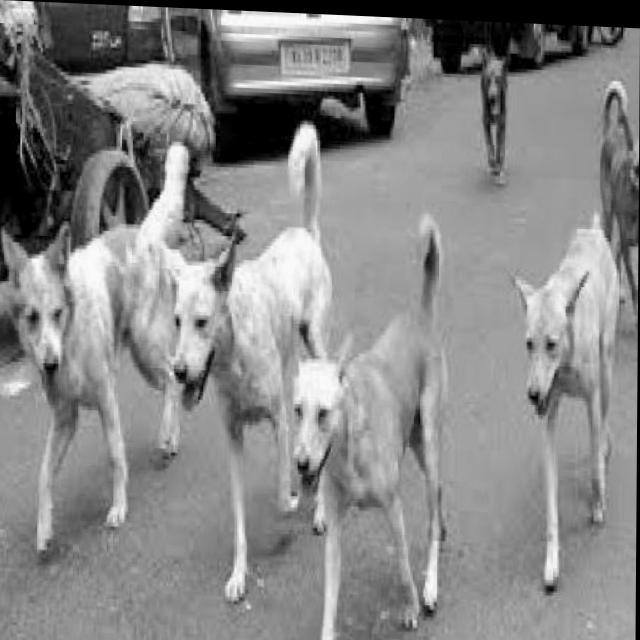Dog: (160, 106, 357, 626), (0, 133, 199, 578), (293, 209, 453, 640), (510, 209, 629, 602), (589, 60, 638, 324), (473, 28, 520, 194)
